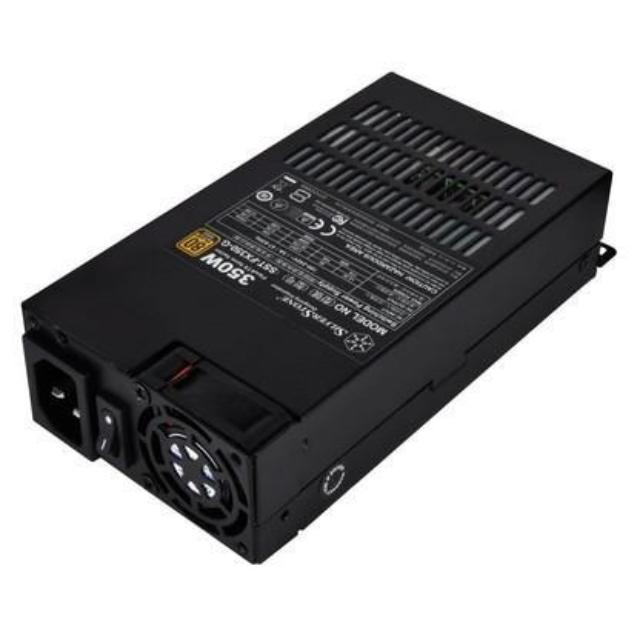PSU: (16, 63, 618, 569)
